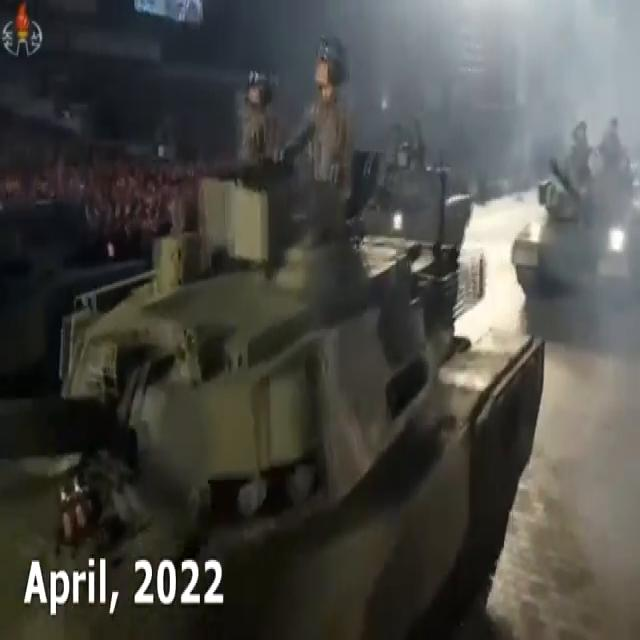north tank: (19, 134, 561, 640), (504, 80, 640, 330)
